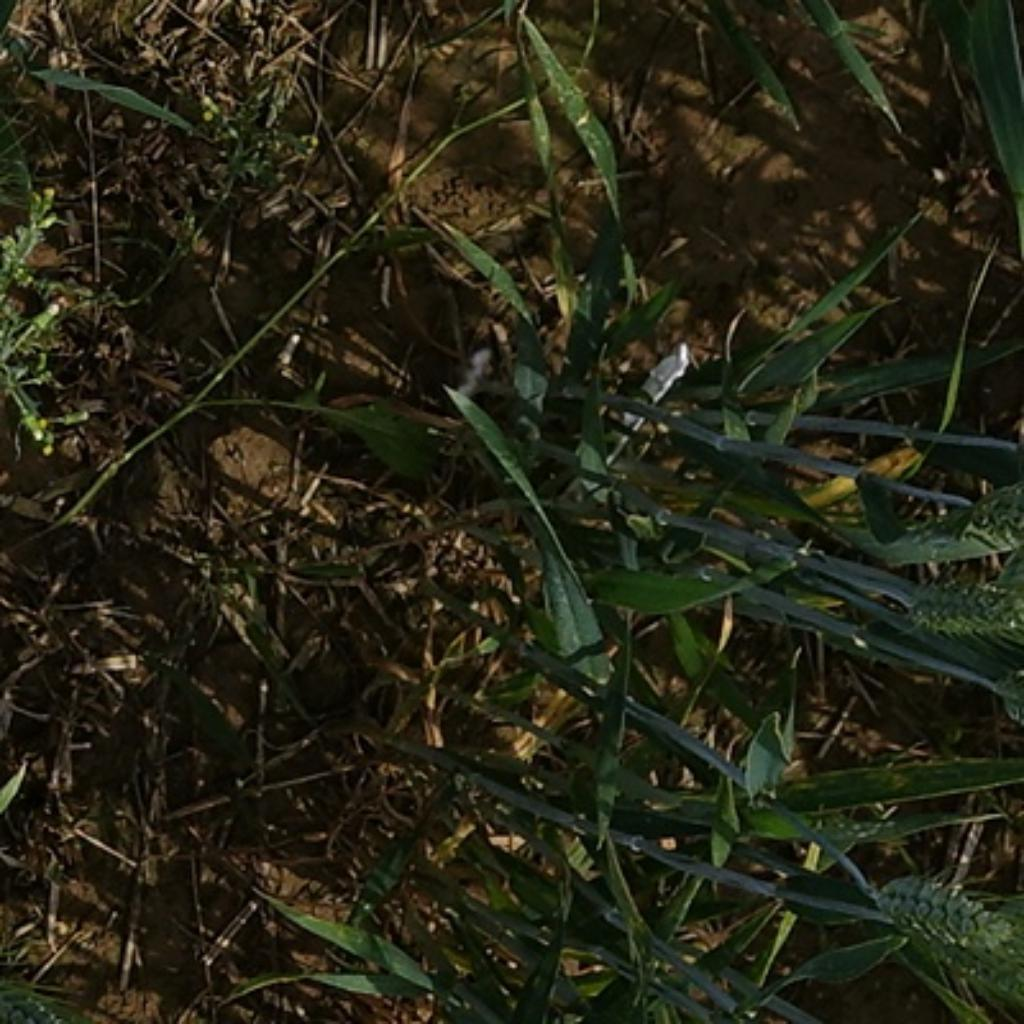0-0: (890, 872, 1024, 965), (901, 474, 1024, 566), (917, 573, 1024, 640)
